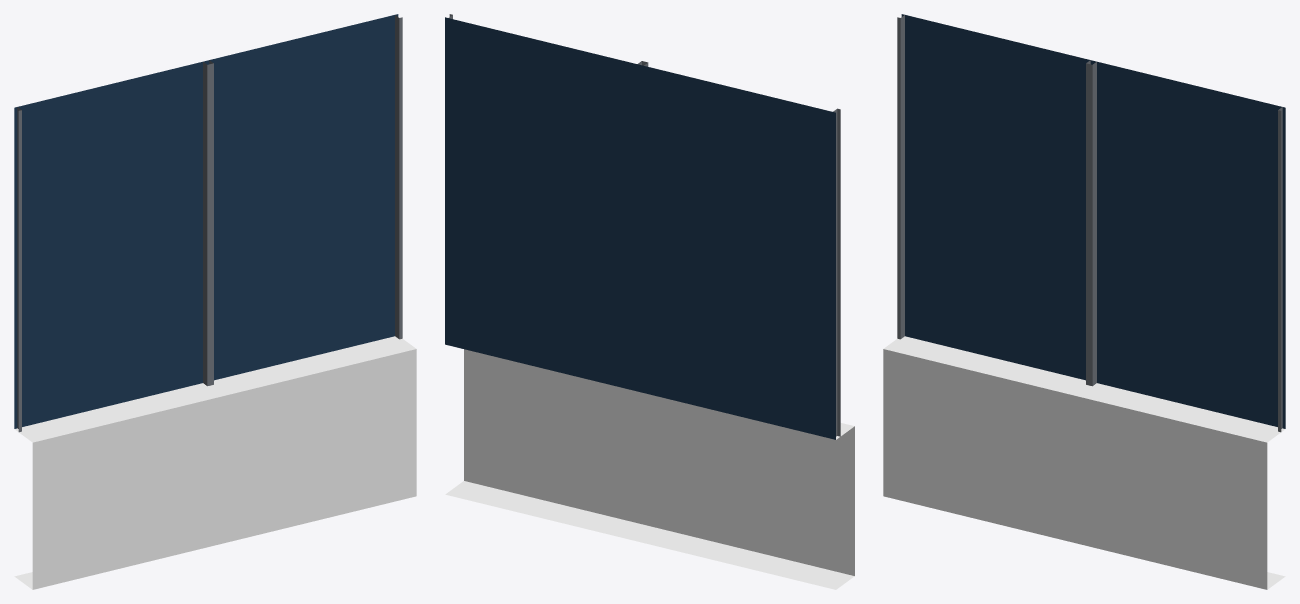
Rendered from mid-w1.fbx.
The picture shows the model from 3 angles, left to right: view 1: azimuth 30°, elevation 25°; view 2: azimuth 150°, elevation 25°; view 3: azimuth 330°, elevation 25°; orthographic projection.
Visible parts, largest first — view 1: a2002/400/mid-w1; view 2: a2002/400/mid-w1; view 3: a2002/400/mid-w1.
Part boxes in pixels (x1,y1,x2,y2): a2002/400/mid-w1: [14, 14, 416, 589]; a2002/400/mid-w1: [445, 14, 854, 589]; a2002/400/mid-w1: [883, 14, 1285, 589].
Bounding box in the file's own units: 3 × 3.5 × 0.25.
